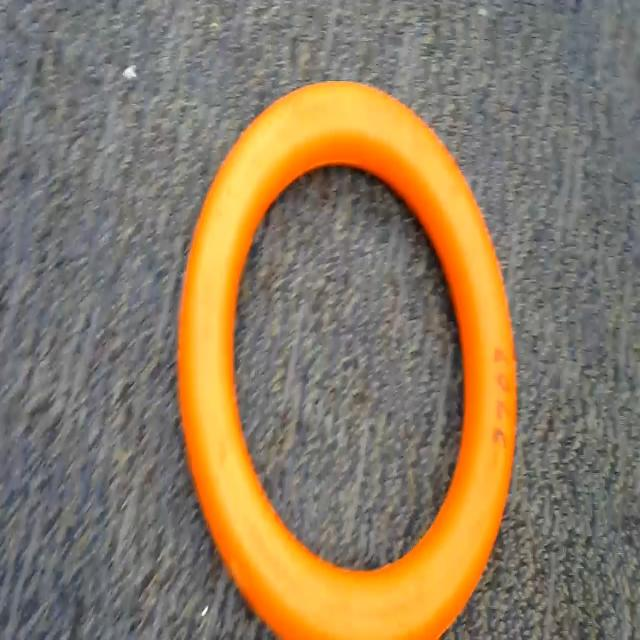note: (168, 74, 556, 640)
